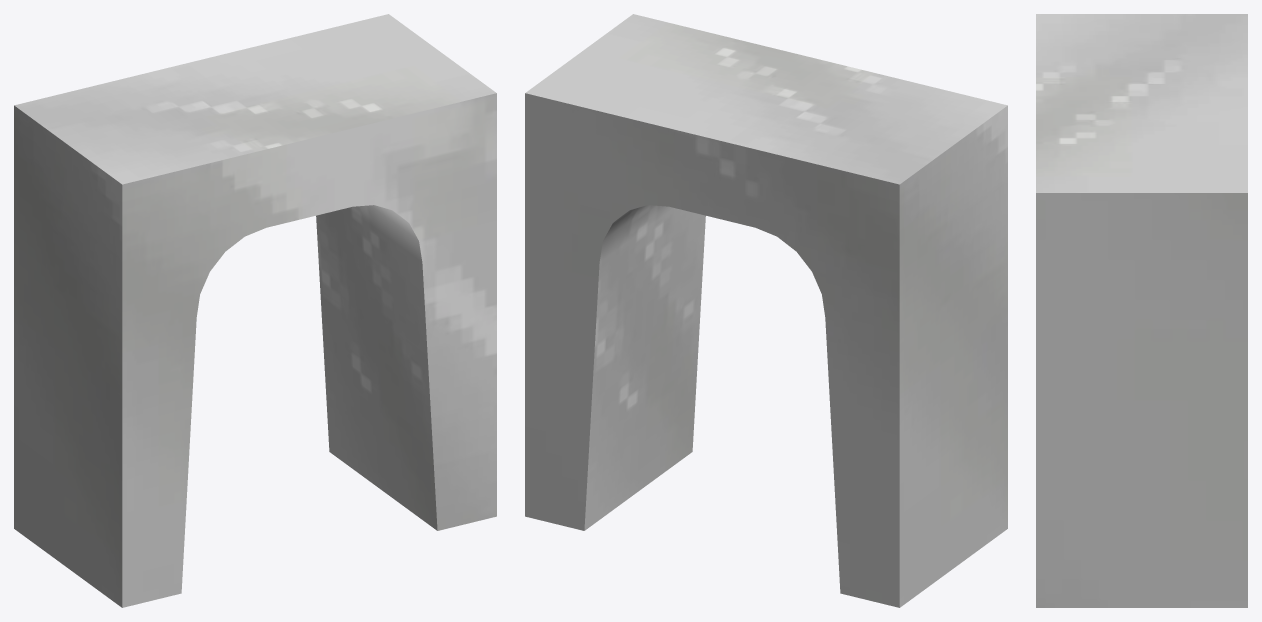
File: DoorwayArch.fbx
3 renders of one model, left to right at view 1: azimuth 30°, elevation 25°; view 2: azimuth 150°, elevation 25°; view 3: azimuth 270°, elevation 25°, orthographic. The views are drawn at different scales.
Parts seen in each view (by area): view 1: pCube214; view 2: pCube214; view 3: pCube214.
Boxes of the visible parts, bbox=[...] form: pCube214: bbox=[14, 14, 496, 607]; pCube214: bbox=[525, 14, 1007, 607]; pCube214: bbox=[1036, 14, 1247, 607].
Bounding box in the file's own units: 500 × 540 × 250.
Materials: 1 (1 with a texture image).
